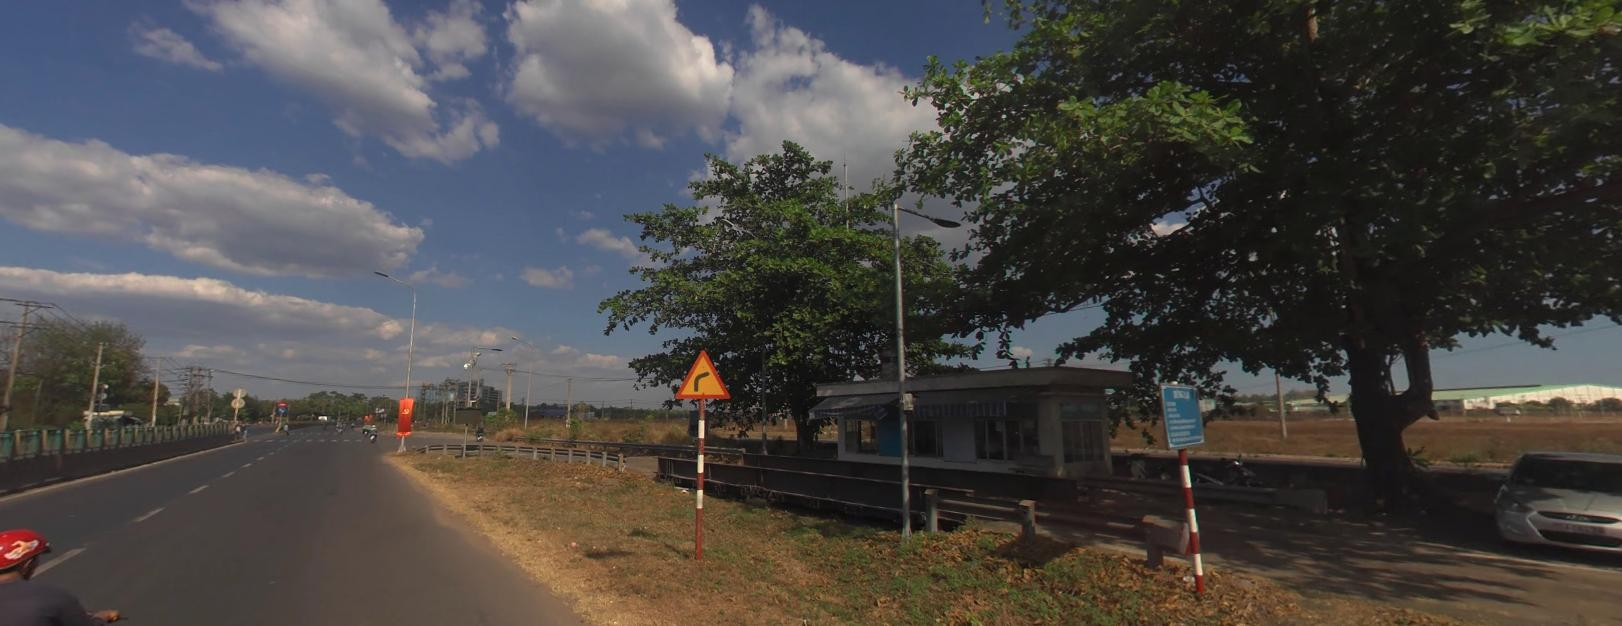Cam nguoc chieu: (278, 399, 285, 405)
Hieu lenh: (277, 406, 285, 411)
Nguy hiem: (674, 347, 729, 397)
